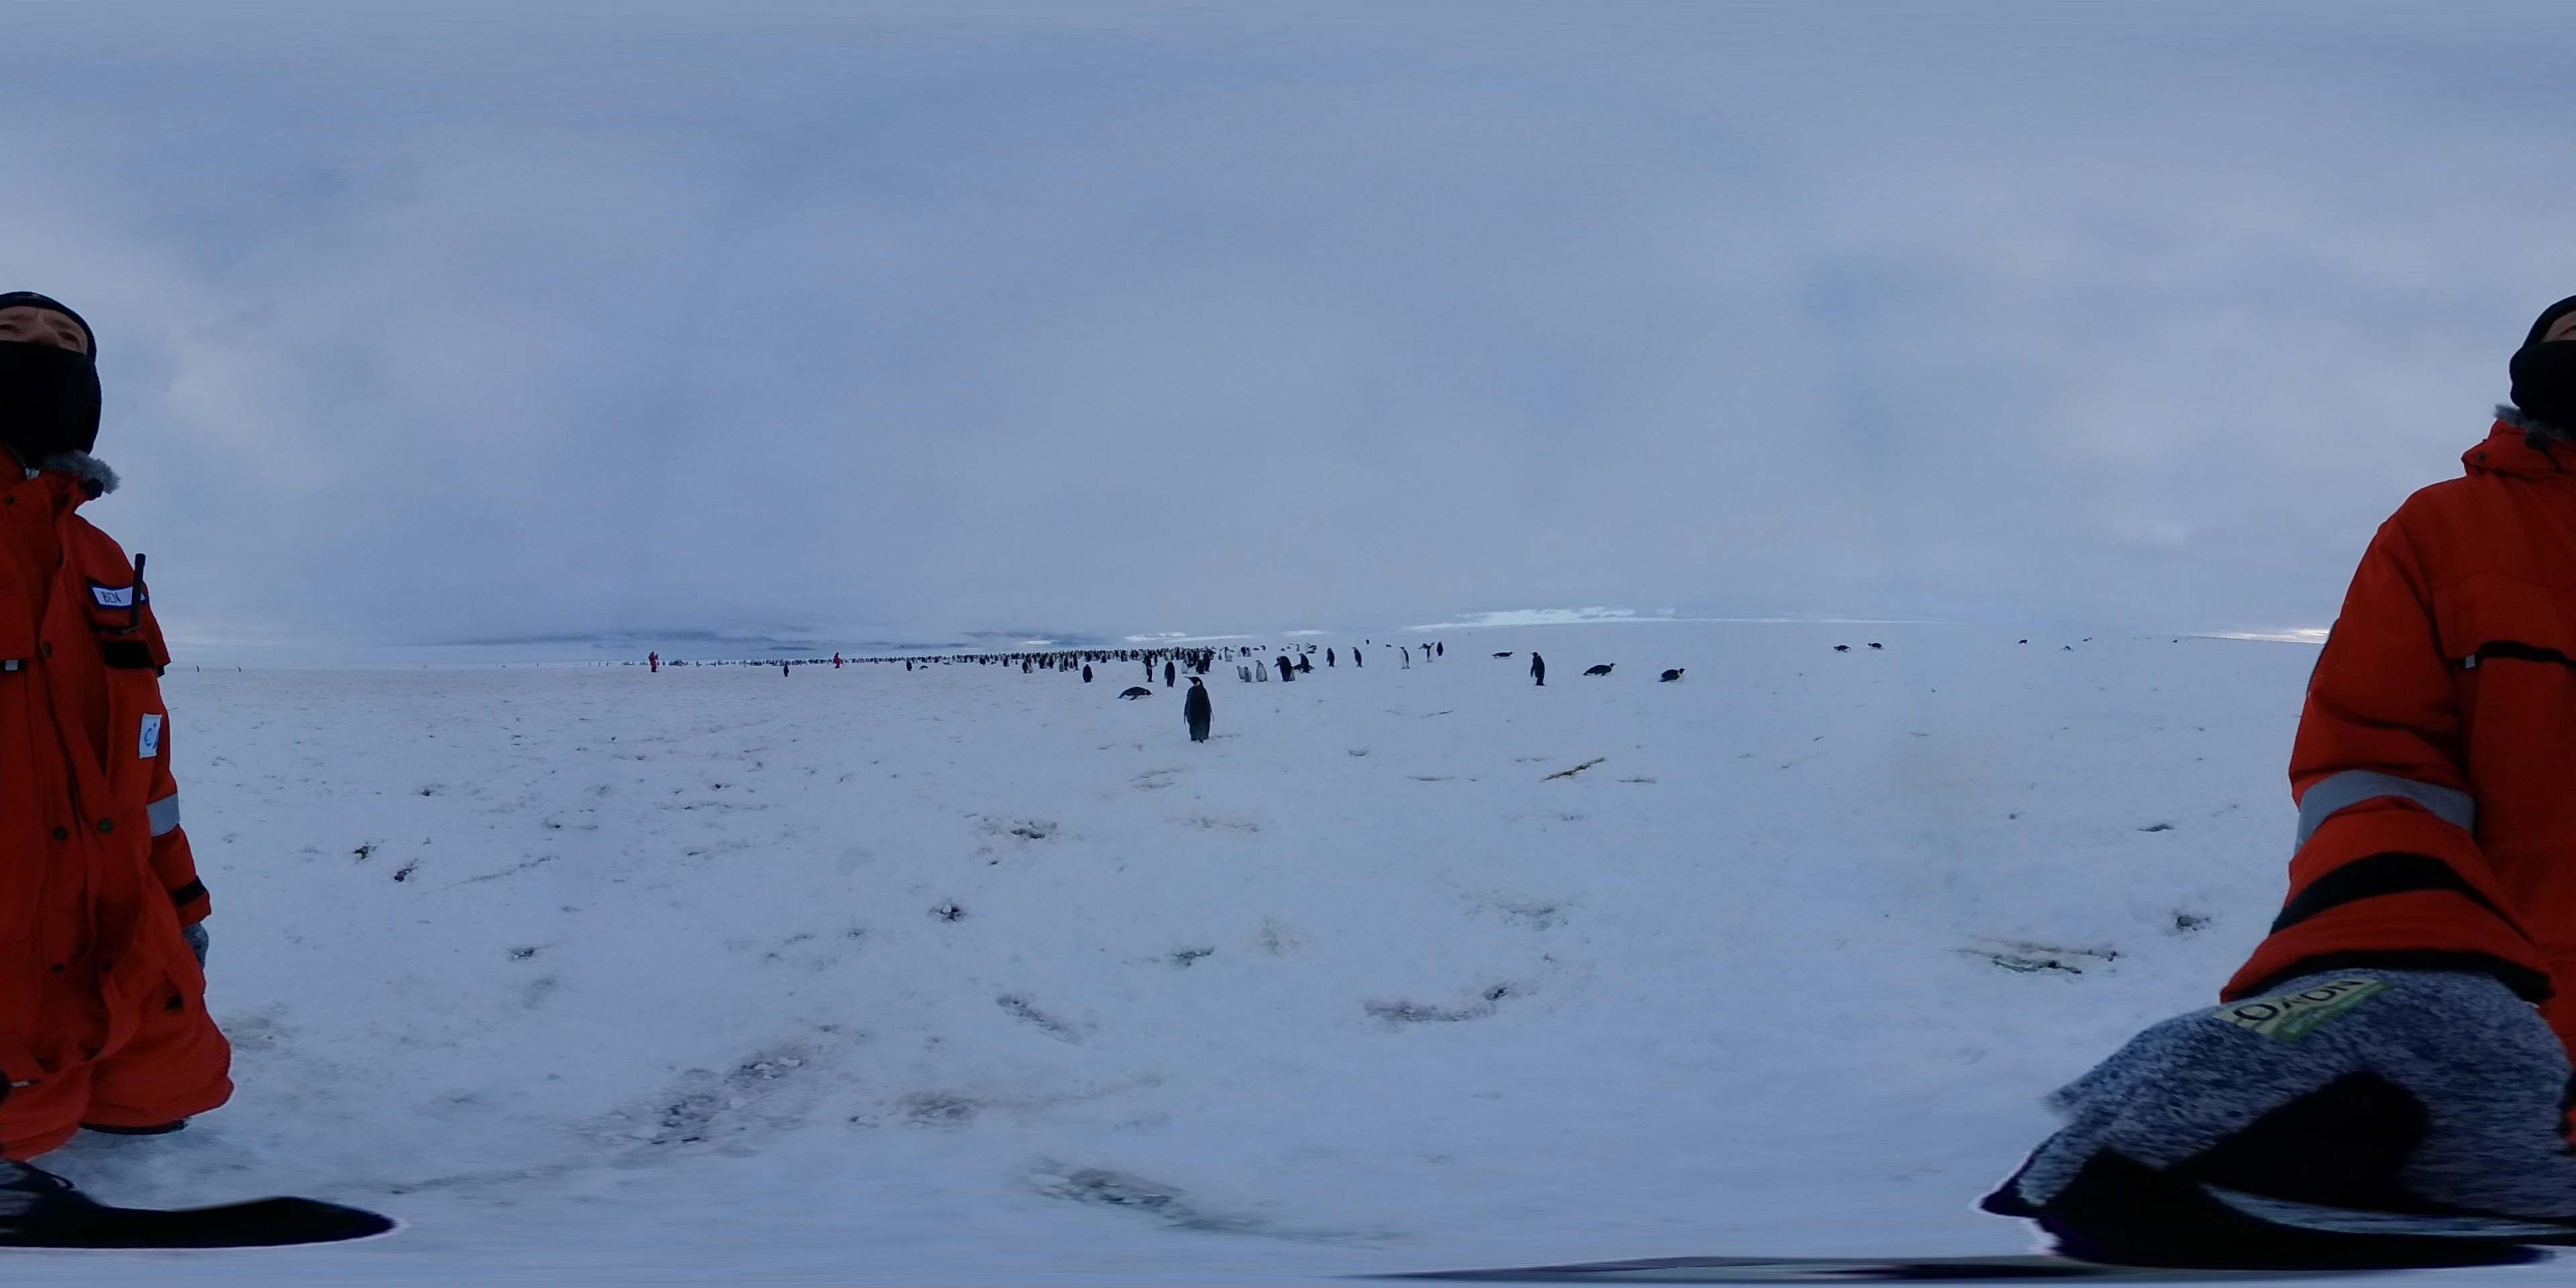adult_standing_penguin: (1181, 674, 1217, 744), (1525, 651, 1549, 688), (1272, 654, 1293, 682), (1161, 657, 1178, 688), (1295, 649, 1313, 675), (1395, 646, 1413, 670), (1350, 644, 1365, 670), (1079, 662, 1094, 685), (1324, 647, 1337, 669), (1428, 641, 1437, 665), (780, 660, 793, 677)
adult_toboggan_penguin: (1117, 683, 1153, 701), (1656, 665, 1686, 685), (1584, 664, 1617, 677), (1488, 647, 1515, 662), (1828, 644, 1853, 654), (1865, 639, 1889, 647)
juvenile_penguin: (1253, 659, 1273, 683), (1240, 664, 1255, 683), (1234, 664, 1245, 680)
researcher: (2221, 283, 2576, 1216), (0, 243, 250, 1150), (644, 651, 662, 674), (830, 651, 843, 670)
